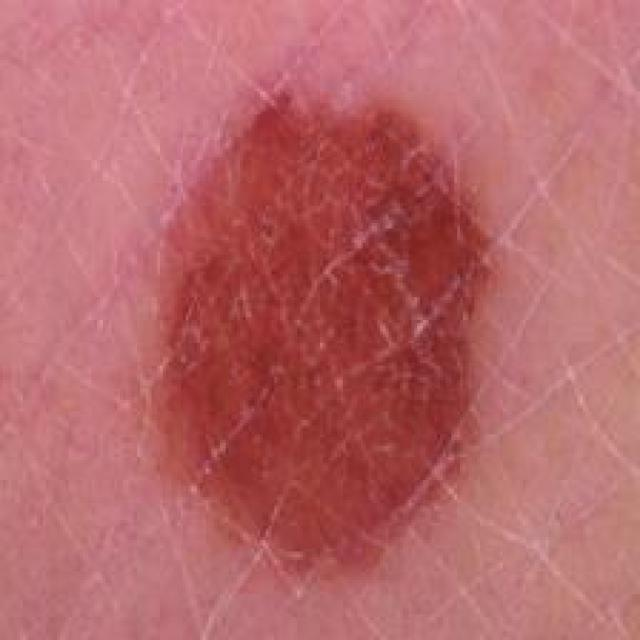Cancer: (140, 83, 497, 583)
